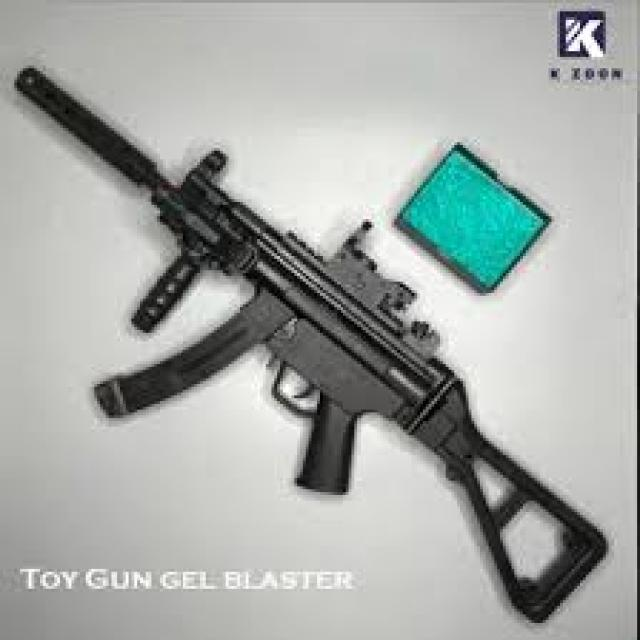Gun: (6, 35, 622, 633)
